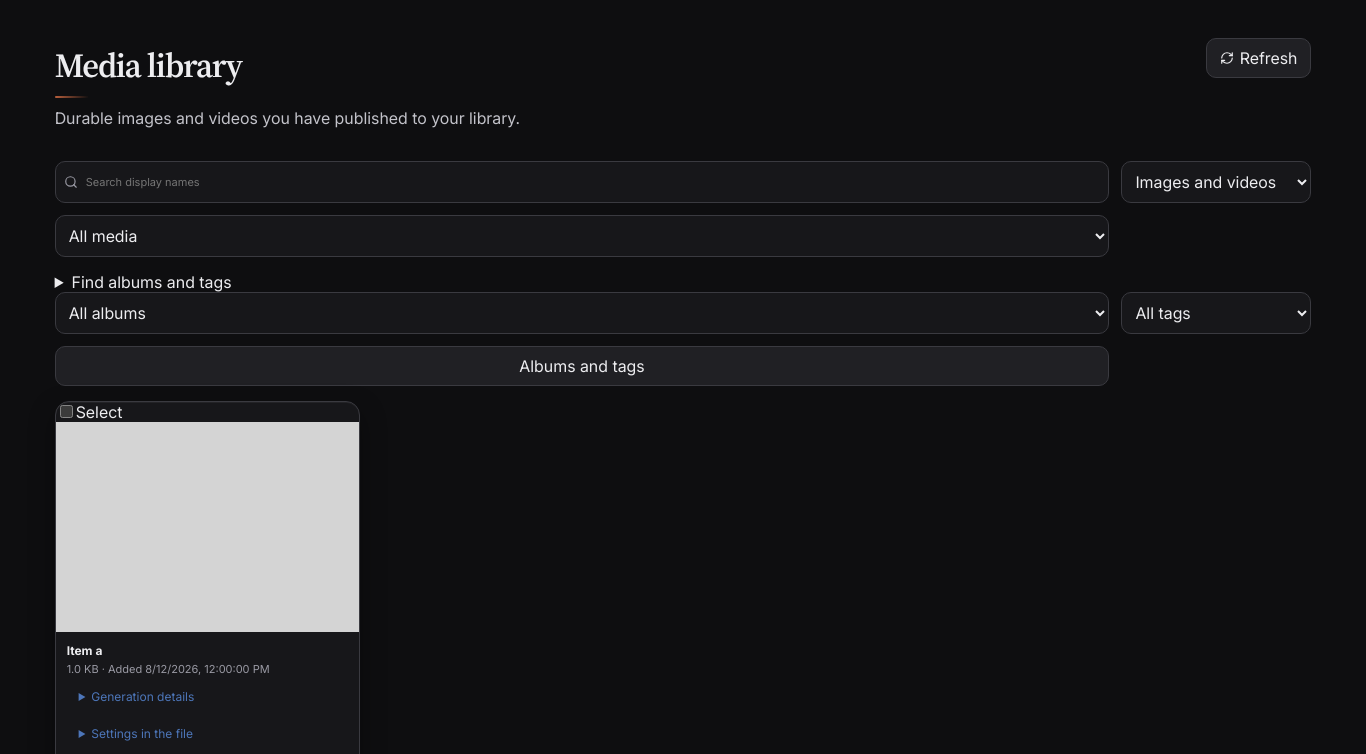
Test: EntryV1 Media Library feed › hides prior rows when refresh fails and suppresses private failure text
expect the text "Item a" is shown: met, box [67,643,102,658]
Step 1. Click the button "Refresh" → [1258, 58], box [1206,38,1311,78]
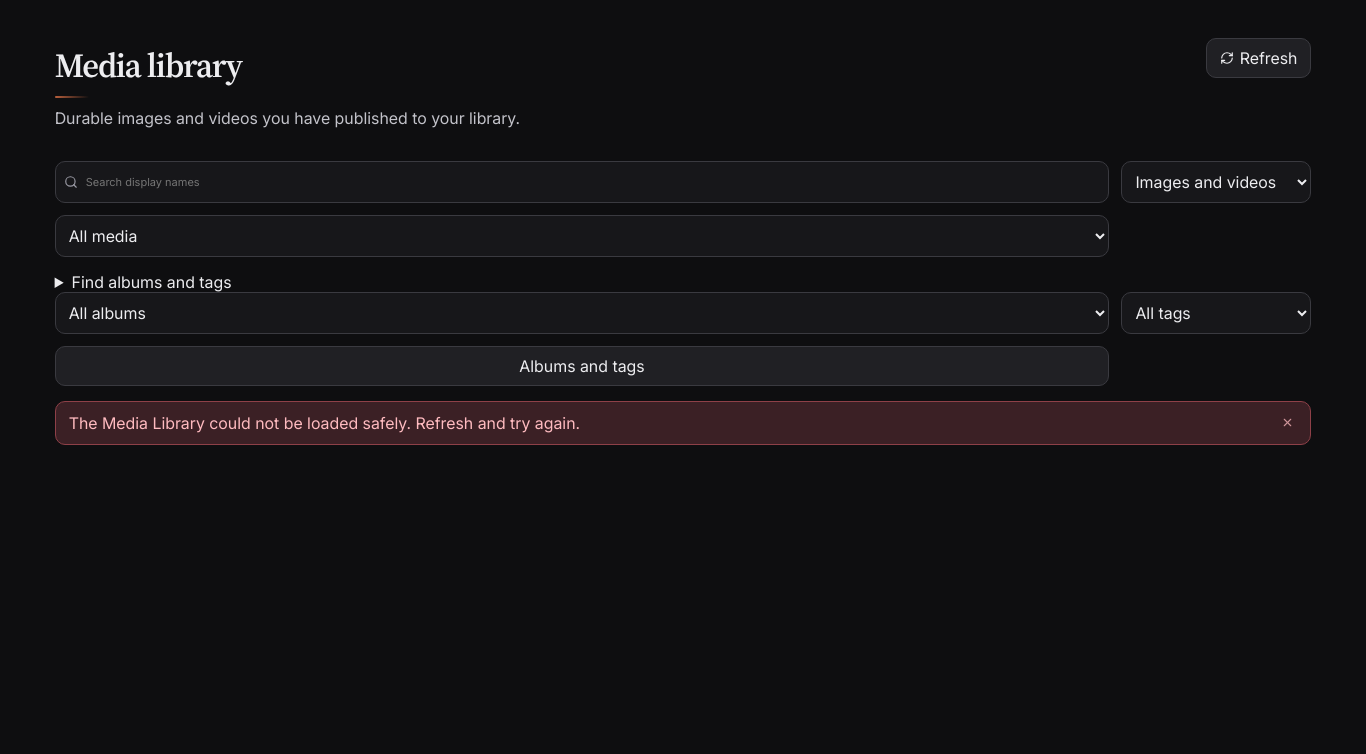
expect the text "The Media Library could not be loaded safely. Refresh and try again." is shown: met, box [69,413,580,433]
expect the text "Item a" is gone: met
